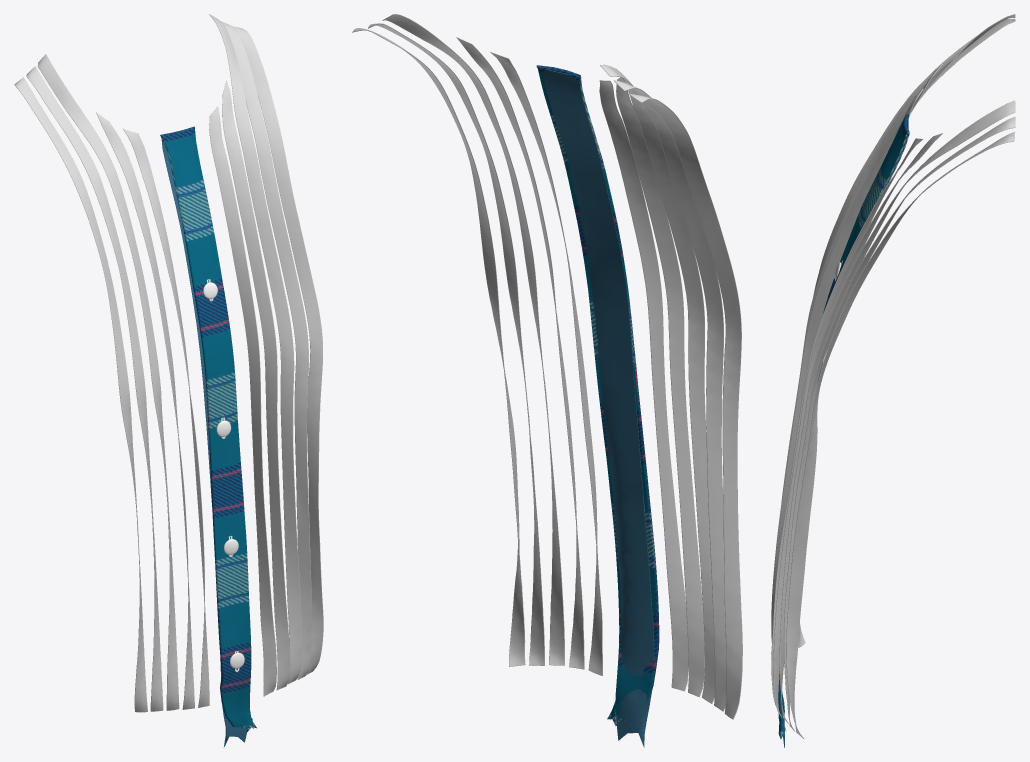
The model's file is Tuxedo_Front_Pleated.glb.
3 views of the same model, side by side, from view 1: azimuth 30°, elevation 25°; view 2: azimuth 150°, elevation 25°; view 3: azimuth 270°, elevation 25° (orthographic). The views are drawn at different scales.
Parts seen in each view (by area): view 1: Wide_Front_placket_Node001.001, Tuxedo_Front_Pleated_Node009, Tuxedo_Front_Pleated_Node010, Tuxedo_Front_Pleated_Node011, Tuxedo_Front_Pleated_Node008, Tuxedo_Front_Pleated_Node007, Tuxedo_Front_Pleated_Node004, Tuxedo_Front_Pleated_Node005, Tuxedo_Front_Pleated_Node006, Tuxedo_Front_Pleated_Node003, Tuxedo_Front_Pleated_Node002, Wide_Front_placket_Node.001; view 2: Wide_Front_placket_Node.001, Tuxedo_Front_Pleated_Node006, Tuxedo_Front_Pleated_Node003, Tuxedo_Front_Pleated_Node002, Tuxedo_Front_Pleated_Node005, Tuxedo_Front_Pleated_Node004, Wide_Front_placket_Node001.001, Tuxedo_Front_Pleated_Node009, Tuxedo_Front_Pleated_Node010, Tuxedo_Front_Pleated_Node011, Tuxedo_Front_Pleated_Node007, Tuxedo_Front_Pleated_Node008; view 3: Tuxedo_Front_Pleated_Node011, Tuxedo_Front_Pleated_Node002, Tuxedo_Front_Pleated_Node009, Tuxedo_Front_Pleated_Node010, Tuxedo_Front_Pleated_Node008, Wide_Front_placket_Node001.001, Tuxedo_Front_Pleated_Node007, Tuxedo_Front_Pleated_Node003, Tuxedo_Front_Pleated_Node005, Tuxedo_Front_Pleated_Node004, Tuxedo_Front_Pleated_Node006.
Boxes of the visible parts, x1,y1,x2,y2 form: Wide_Front_placket_Node001.001: (160,126,256,731); Tuxedo_Front_Pleated_Node009: (209,14,301,684); Tuxedo_Front_Pleated_Node010: (222,22,311,679); Tuxedo_Front_Pleated_Node011: (233,26,323,674); Tuxedo_Front_Pleated_Node008: (222,81,290,690); Tuxedo_Front_Pleated_Node007: (209,106,276,696); Tuxedo_Front_Pleated_Node004: (37,54,179,710); Tuxedo_Front_Pleated_Node005: (26,66,163,711); Tuxedo_Front_Pleated_Node006: (14,77,147,712); Tuxedo_Front_Pleated_Node003: (96,112,194,709); Tuxedo_Front_Pleated_Node002: (123,128,209,707); Wide_Front_placket_Node.001: (161,139,247,747); Wide_Front_placket_Node.001: (542,69,654,747); Tuxedo_Front_Pleated_Node006: (629,94,742,719); Tuxedo_Front_Pleated_Node003: (616,77,704,697); Tuxedo_Front_Pleated_Node002: (599,80,688,691); Tuxedo_Front_Pleated_Node005: (614,80,726,711); Tuxedo_Front_Pleated_Node004: (600,64,714,703); Wide_Front_placket_Node001.001: (536,65,659,725); Tuxedo_Front_Pleated_Node009: (382,14,564,665); Tuxedo_Front_Pleated_Node010: (368,23,544,665); Tuxedo_Front_Pleated_Node011: (352,28,525,666); Tuxedo_Front_Pleated_Node007: (490,51,602,675); Tuxedo_Front_Pleated_Node008: (456,37,584,669); Tuxedo_Front_Pleated_Node011: (786,131,1014,738); Tuxedo_Front_Pleated_Node002: (771,88,923,642); Tuxedo_Front_Pleated_Node009: (779,100,1015,723); Tuxedo_Front_Pleated_Node010: (784,117,1015,731); Tuxedo_Front_Pleated_Node008: (773,133,942,717); Wide_Front_placket_Node001.001: (778,114,909,738); Tuxedo_Front_Pleated_Node007: (771,138,922,705); Tuxedo_Front_Pleated_Node003: (781,64,942,502); Tuxedo_Front_Pleated_Node005: (813,18,1015,295); Tuxedo_Front_Pleated_Node004: (813,14,1015,294); Tuxedo_Front_Pleated_Node006: (798,19,1014,647).
Bounding box in the file's own units: 20.37 × 53.31 × 17.24.
Materials: 8 (6 with a texture image).
